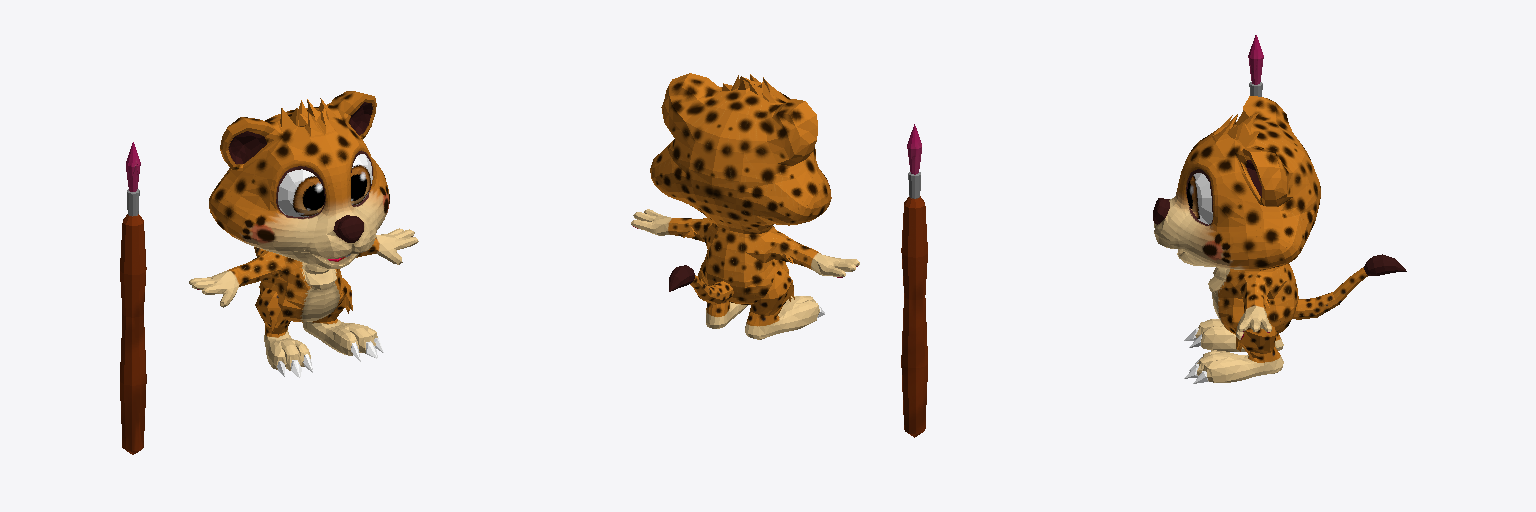
3 views of the same model, side by side, from view 1: azimuth 30°, elevation 25°; view 2: azimuth 150°, elevation 25°; view 3: azimuth 270°, elevation 25° (orthographic).
Parts seen in each view (by area): view 1: Sphere.004, Cylinder, Cube.013_Cube.003, Sphere.003; view 2: Sphere.004, Cylinder, Cube.013_Cube.003, Sphere; view 3: Sphere.004, Cube.013_Cube.003, Sphere, Sphere.003, Cylinder.
Part boxes in pixels (left/top/right/bottom): Sphere.004: left=189, top=91, right=418, bottom=322; Cylinder: left=120, top=142, right=146, bottom=454; Cube.013_Cube.003: left=255, top=278, right=383, bottom=377; Sphere.003: left=278, top=154, right=372, bottom=217; Sphere.004: left=631, top=73, right=859, bottom=304; Cylinder: left=901, top=124, right=927, bottom=437; Cube.013_Cube.003: left=698, top=263, right=824, bottom=339; Sphere: left=669, top=265, right=733, bottom=304; Sphere.004: left=1153, top=96, right=1320, bottom=339; Cube.013_Cube.003: left=1184, top=319, right=1283, bottom=383; Sphere: left=1292, top=254, right=1406, bottom=319; Sphere.003: left=1187, top=173, right=1212, bottom=224; Cylinder: left=1248, top=35, right=1263, bottom=96.
Bounding box in the file's own units: 1.83 × 1.89 × 1.38.
1 materials, 1 textured.